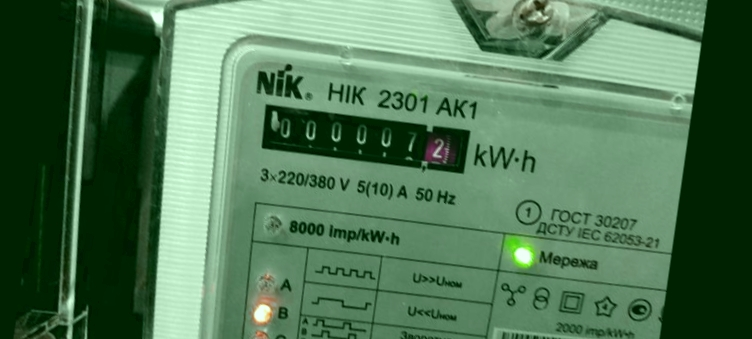0: (277, 113, 294, 139), (328, 118, 345, 143), (353, 121, 370, 145), (378, 123, 394, 148), (303, 117, 319, 140)
2: (430, 135, 446, 159)
7: (404, 127, 419, 152)
screen: (248, 88, 482, 186)
